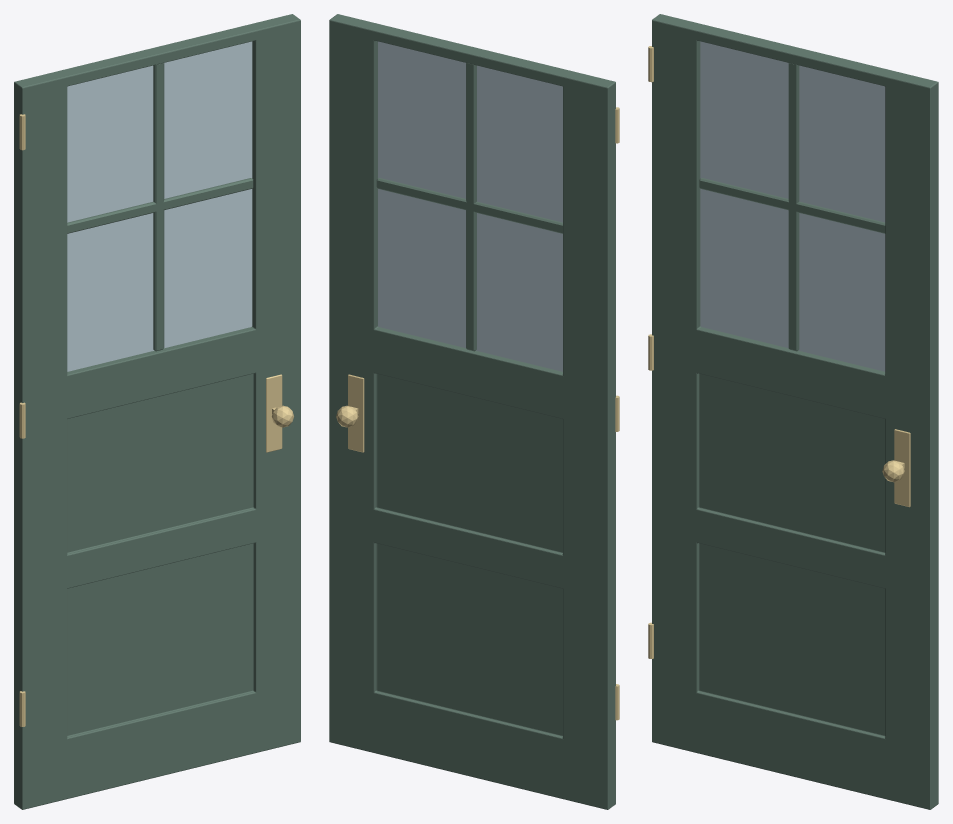
File: door_leaf_roof.glb
3 views of the same model, side by side, from view 1: azimuth 30°, elevation 25°; view 2: azimuth 150°, elevation 25°; view 3: azimuth 330°, elevation 25° (orthographic).
Visible parts, largest first — view 1: door_leaf_roof_door, door_leaf_roof_glass, door_leaf_roof_brass; view 2: door_leaf_roof_door, door_leaf_roof_glass, door_leaf_roof_brass; view 3: door_leaf_roof_door, door_leaf_roof_glass, door_leaf_roof_brass.
Boxes of the visible parts, x1,y1,x2,y2 form: door_leaf_roof_door: [14, 14, 300, 809]; door_leaf_roof_glass: [67, 41, 252, 371]; door_leaf_roof_brass: [19, 114, 293, 726]; door_leaf_roof_door: [329, 14, 615, 809]; door_leaf_roof_glass: [378, 41, 562, 371]; door_leaf_roof_brass: [336, 107, 619, 720]; door_leaf_roof_door: [652, 14, 938, 809]; door_leaf_roof_glass: [700, 41, 885, 371]; door_leaf_roof_brass: [648, 46, 910, 658].
Size of the model in its own units: 0.868 by 2.13 by 0.205.
